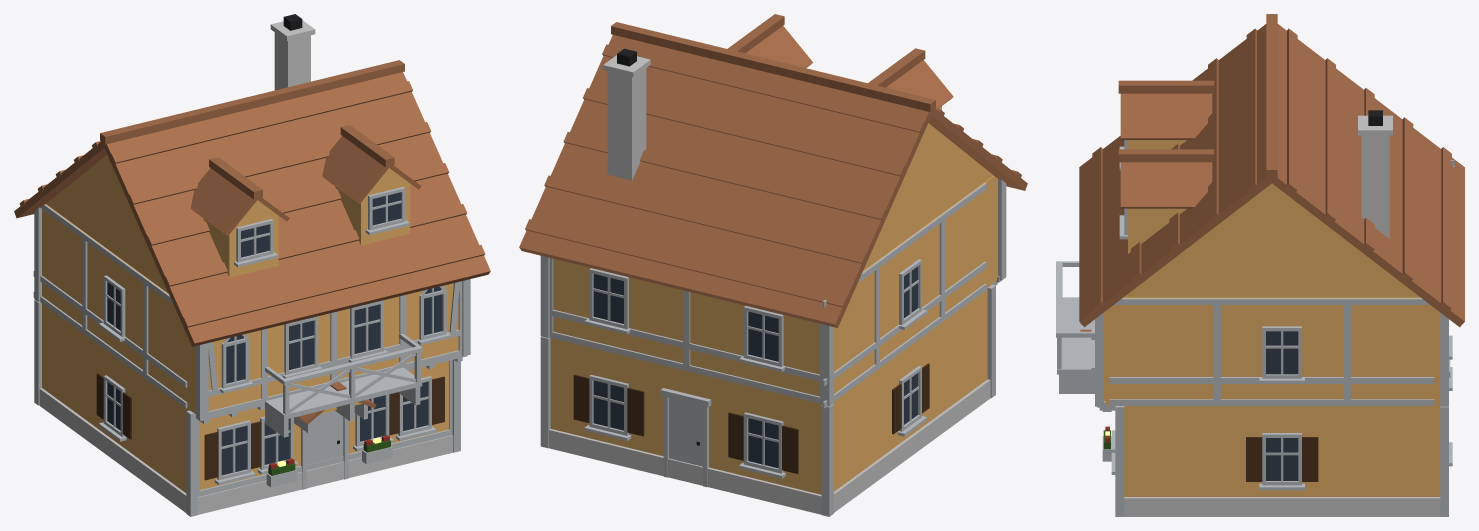
The model's file is dormer_house.gltf.
3 views of the same model, side by side, from view 1: azimuth 30°, elevation 25°; view 2: azimuth 150°, elevation 25°; view 3: azimuth 270°, elevation 25° (orthographic). The views are drawn at different scales.
Parts seen in each view (by area): view 1: dormer_house; view 2: dormer_house; view 3: dormer_house.
Part boxes in pixels (x1,y1,x2,y2): dormer_house: [14, 14, 490, 516]; dormer_house: [519, 14, 1027, 516]; dormer_house: [1056, 14, 1464, 516].
Bounding box in the file's own units: 9.1 × 10.32 × 10.07.
